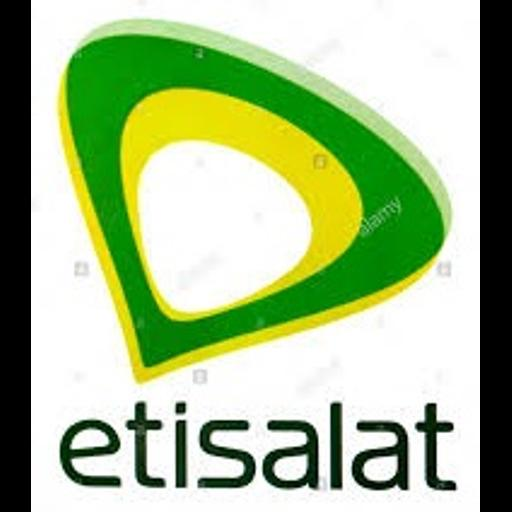Etisalat: (31, 0, 480, 512)
